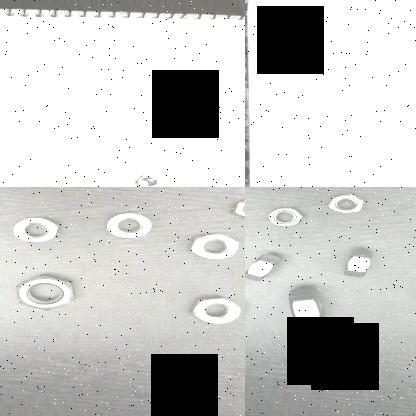NUTS: (15, 274, 75, 312), (282, 284, 332, 328), (8, 212, 64, 246), (186, 294, 242, 326), (191, 230, 238, 260), (105, 212, 154, 240), (262, 202, 308, 230), (340, 246, 377, 278), (245, 250, 282, 282), (326, 192, 368, 214), (127, 172, 165, 187), (230, 195, 245, 219)
